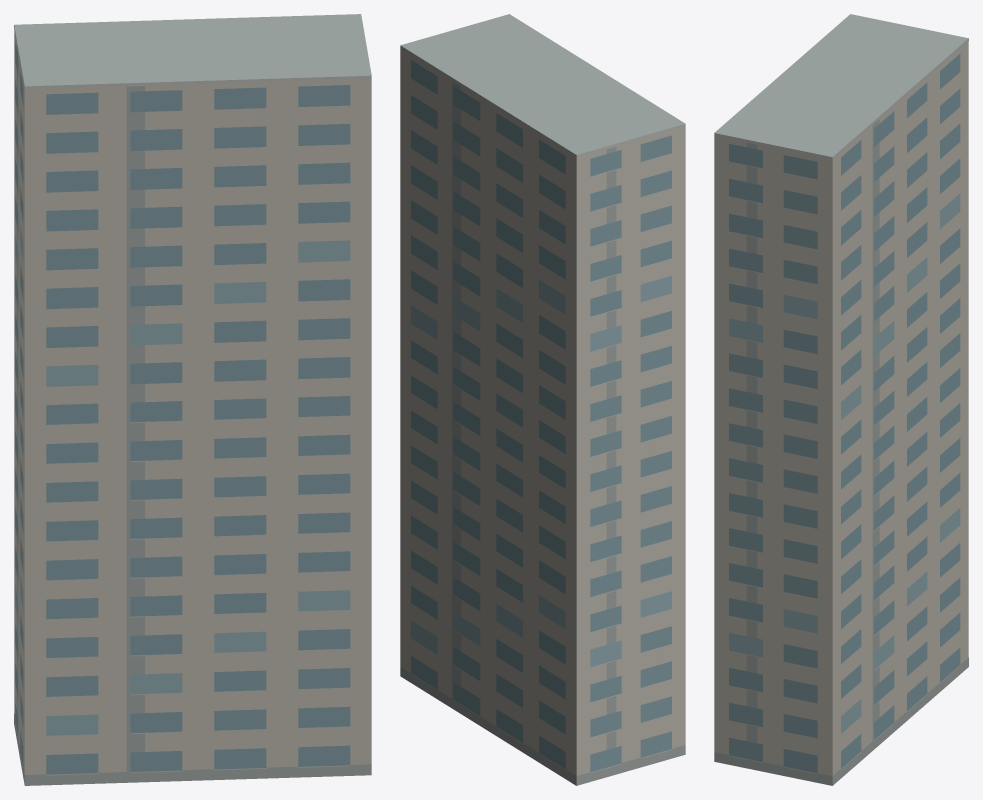
The model's file is residential-890c1614-7373-4d37-88b6-e67e992a814c.glb.
The picture shows the model from 3 angles, left to right: view 1: azimuth 30°, elevation 25°; view 2: azimuth 150°, elevation 25°; view 3: azimuth 270°, elevation 25°; orthographic projection. The views are drawn at different scales.
Visible parts, largest first — view 1: residential-890c1614-7373-4d37-88b6-e67e992a814c.tmp; view 2: residential-890c1614-7373-4d37-88b6-e67e992a814c.tmp; view 3: residential-890c1614-7373-4d37-88b6-e67e992a814c.tmp.
Boxes of the visible parts, <box> form: residential-890c1614-7373-4d37-88b6-e67e992a814c.tmp: <box>14,14,371,785</box>; residential-890c1614-7373-4d37-88b6-e67e992a814c.tmp: <box>400,14,685,785</box>; residential-890c1614-7373-4d37-88b6-e67e992a814c.tmp: <box>714,14,968,785</box>.
Size of the model in its own units: 24.42 by 50 by 18.36.
